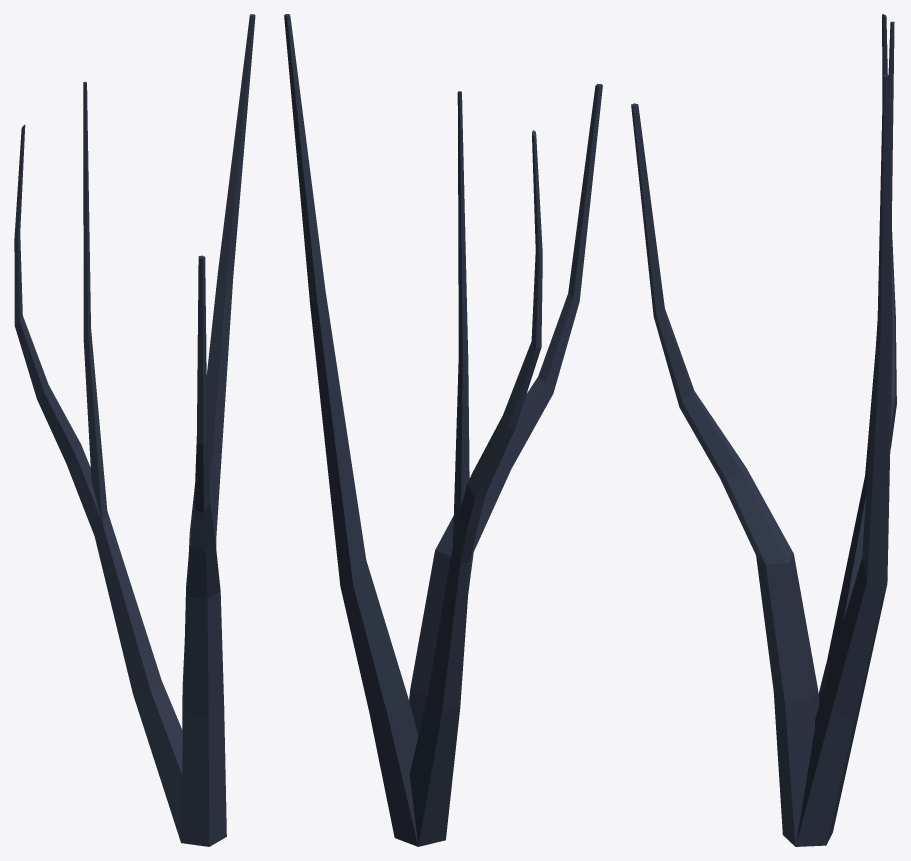
File: SP_Tree04.fbx
3 views of the same model, side by side, from view 1: azimuth 30°, elevation 25°; view 2: azimuth 150°, elevation 25°; view 3: azimuth 270°, elevation 25° (orthographic). The views are drawn at different scales.
Parts seen in each view (by area): view 1: SP_Tree04; view 2: SP_Tree04; view 3: SP_Tree04.
Boxes of the visible parts, x1,y1,x2,y2 form: SP_Tree04: (14, 14, 255, 846); SP_Tree04: (284, 14, 602, 846); SP_Tree04: (631, 14, 896, 846).
Bounding box in the file's own units: 94.15 × 289 × 86.26.
1 material, 1 textured.
